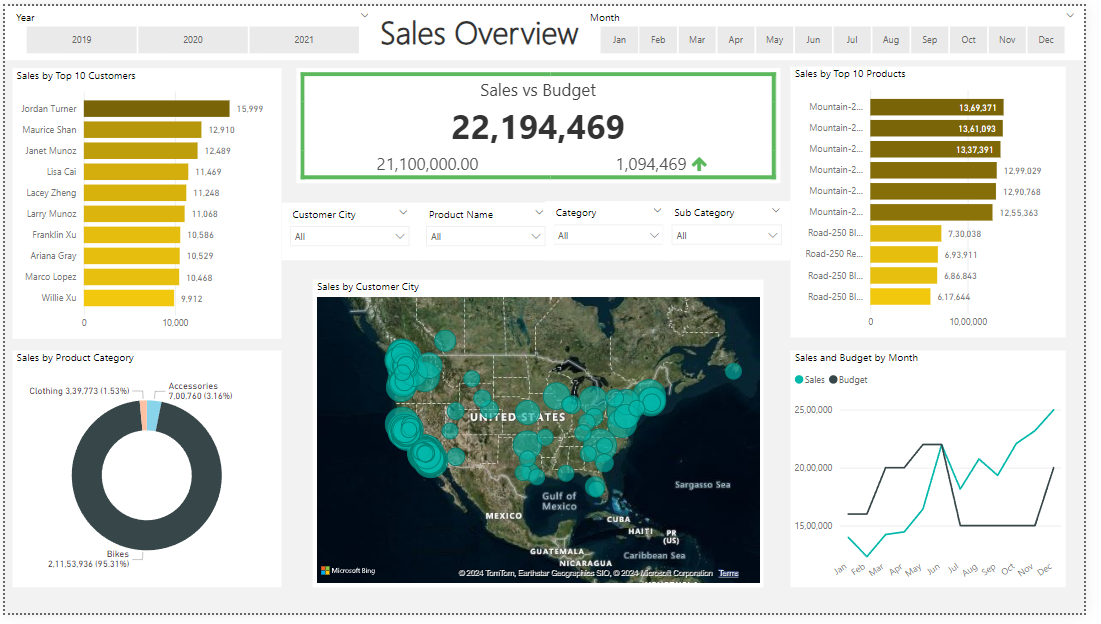

The page's visual inventory and layout, read from the dashboard file:
{"tool":"powerbi","page":{"name":"Sales Overview","canvas":[1280,720],"ordinal":0},"visuals":[{"type":"textbox","box":[0,0,1280,64],"z":0},{"type":"slicer","fields":{"Values":["DIM_Calendar.Year"]},"box":[0,0,443.9,63.2],"z":1000},{"type":"slicer","fields":{"Values":["DIM_Calendar.MonthShort"]},"box":[680.7,0,600,63.2],"z":2000},{"type":"slicer","fields":{"Values":["DIM_Customers.Customer City"]},"box":[328.1,233.3,161.4,68.4],"z":3000},{"type":"slicer","fields":{"Values":["DIM_Products.Product Category"]},"box":[640.4,231.6,150.9,70.2],"z":4000},{"type":"slicer","fields":{"Values":["DIM_Products.Product Name"]},"box":[489.5,233.3,161.4,68.4],"z":5000},{"type":"slicer","fields":{"Values":["DIM_Products.Sub Category"]},"box":[780.7,231.6,150.9,70.2],"z":6000},{"type":"barChart","title":"Sales by Top 10 Products","fields":{"Category":["DIM_Products.Product Name"],"Y":["Analysis Metrics.Sales"]},"box":[931.6,71.9,326.3,321.1],"z":7000},{"type":"lineChart","fields":{"Category":["DIM_Calendar.MonthShort"],"Y":["Analysis Metrics.Sales","Analysis Metrics.Budget"]},"box":[931.6,408.8,326.3,280.7],"z":8000},{"type":"barChart","title":"Sales by Top 10 Customers","fields":{"Category":["DIM_Customers.Full Name"],"Y":["Analysis Metrics.Sales"]},"box":[8.8,73.7,319.3,321.1],"z":9000},{"type":"donutChart","fields":{"Y":["Analysis Metrics.Sales"],"Series":["DIM_Products.Product Category"]},"box":[8.8,408.8,319.3,280.7],"z":10000},{"type":"map","fields":{"Category":["DIM_Customers.Customer City"],"Size":["Analysis Metrics.Sales"]},"box":[364.9,324.6,535.1,364.9],"z":12000},{"type":"BBED0A4D4D8D44CE93CF2DAFADEE466C","fields":{"actual":["Analysis Metrics.Sales"],"target2":["Analysis Metrics.Sales / Budget"],"target1":["Analysis Metrics.Budget"]},"box":[345.6,73.7,573.7,136.8],"z":13001}]}

Visuals, with their boxes in screenshot pixels (x1, y1, x2, y2), scaled from the page's 1280x720 canvas onto the 1101x624 screenshot:
textbox: select_region(0, 0, 1100, 55)
slicer - DIM_Calendar.Year: select_region(0, 0, 382, 55)
slicer - DIM_Calendar.MonthShort: select_region(586, 0, 1100, 55)
slicer - DIM_Customers.Customer City: select_region(282, 202, 421, 261)
slicer - DIM_Products.Product Category: select_region(551, 201, 681, 262)
slicer - DIM_Products.Product Name: select_region(421, 202, 560, 261)
slicer - DIM_Products.Sub Category: select_region(672, 201, 801, 262)
"Sales by Top 10 Products" barChart: select_region(801, 62, 1082, 341)
lineChart - DIM_Calendar.MonthShort x Analysis Metrics.Sales: select_region(801, 354, 1082, 598)
"Sales by Top 10 Customers" barChart: select_region(8, 64, 282, 342)
donutChart - Analysis Metrics.Sales x DIM_Products.Product Category: select_region(8, 354, 282, 598)
map - DIM_Customers.Customer City x Analysis Metrics.Sales: select_region(314, 281, 774, 598)
BBED0A4D4D8D44CE93CF2DAFADEE466C - Analysis Metrics.Sales x Analysis Metrics.Sales / Budget: select_region(297, 64, 791, 182)
